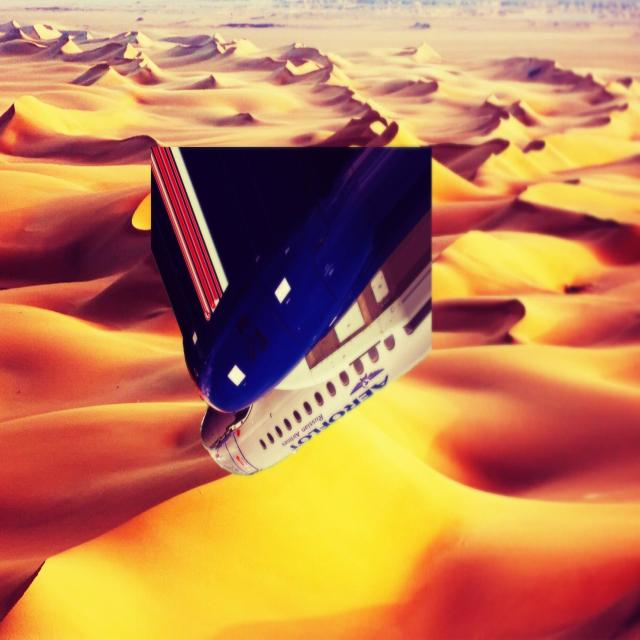airplane: (151, 145, 432, 477)
